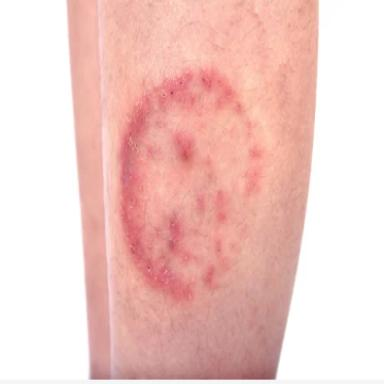Tinea-Corporis: (117, 67, 263, 303)
